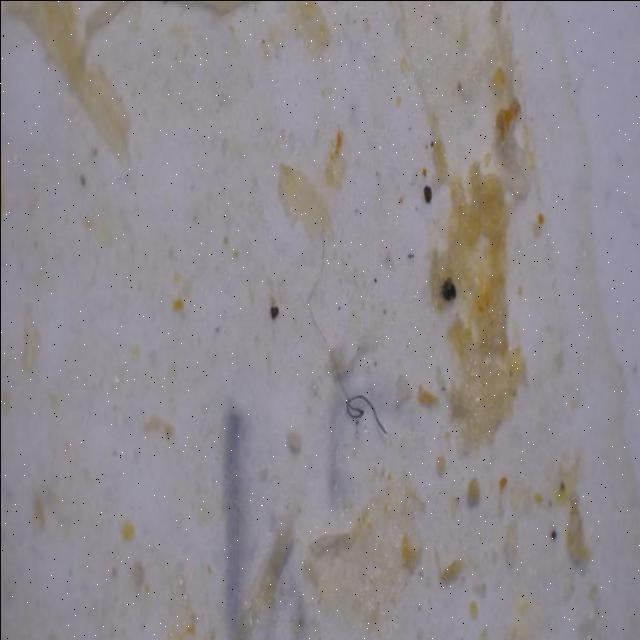Fibre: (308, 204, 389, 446)
